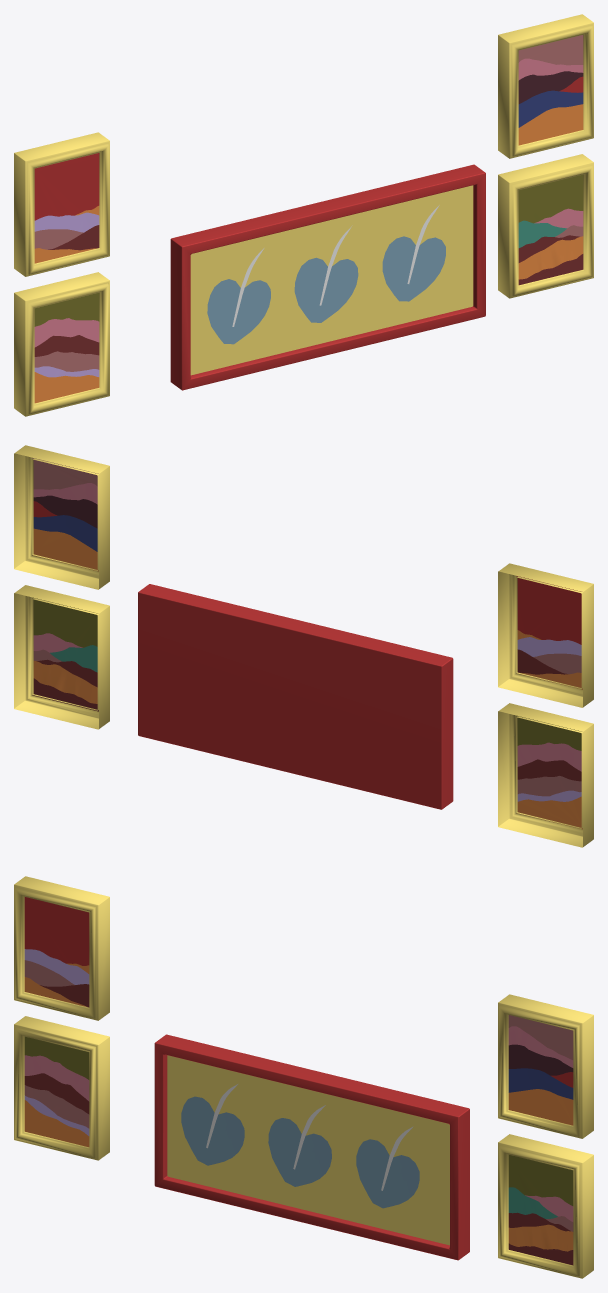
The model's file is Painting.fbx.
3 renders of one model, top to bottom at view 1: azimuth 30°, elevation 25°; view 2: azimuth 150°, elevation 25°; view 3: azimuth 330°, elevation 25°, orthographic.
Parts seen in each view (by area): view 1: Painting_5, Painting_4, Painting_1, Painting_3, Painting_2; view 2: Painting_5, Painting_4, Painting_1, Painting_3, Painting_2; view 3: Painting_5, Painting_3, Painting_2, Painting_4, Painting_1.
Part boxes in pixels (box(x1,y1,x2,y2)): Painting_5: box(170, 164, 485, 390); Painting_4: box(498, 154, 593, 298); Painting_1: box(14, 132, 109, 276); Painting_3: box(14, 272, 109, 416); Painting_2: box(498, 14, 593, 158); Painting_5: box(138, 584, 453, 809); Painting_4: box(14, 585, 109, 729); Painting_1: box(498, 563, 593, 707); Painting_3: box(498, 703, 593, 847); Painting_2: box(14, 445, 109, 589); Painting_5: box(154, 1034, 469, 1260); Painting_3: box(14, 1016, 109, 1160); Painting_2: box(498, 994, 593, 1138); Painting_4: box(498, 1134, 593, 1278); Painting_1: box(14, 876, 109, 1020).
Size of the model in its own units: 358 by 156 by 21.12.
